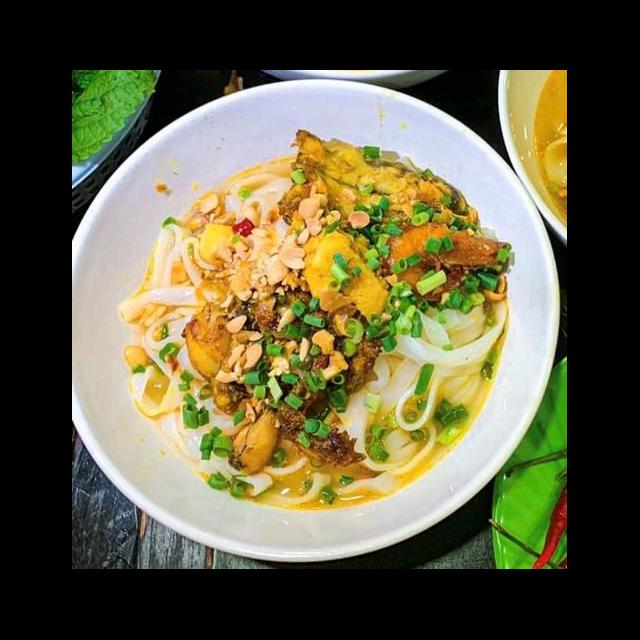mi: (334, 286, 516, 500), (114, 162, 312, 330), (122, 302, 280, 502), (218, 444, 400, 506)
tom: (378, 218, 514, 306)
